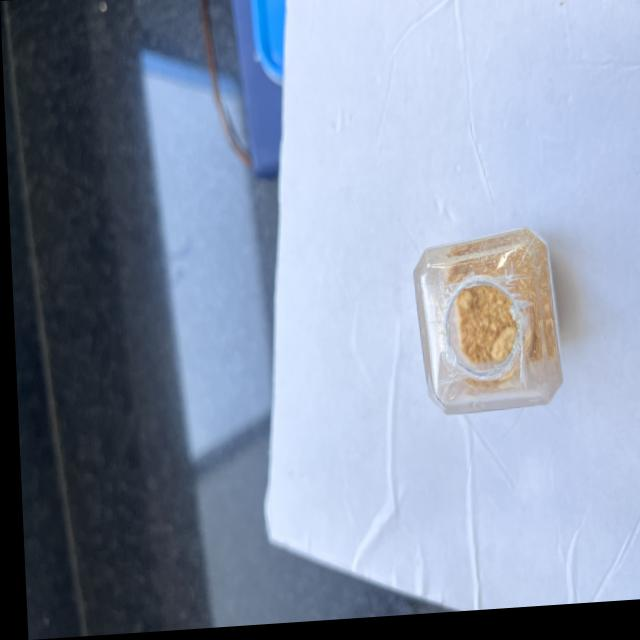garlic_powder: (447, 236, 554, 404)
